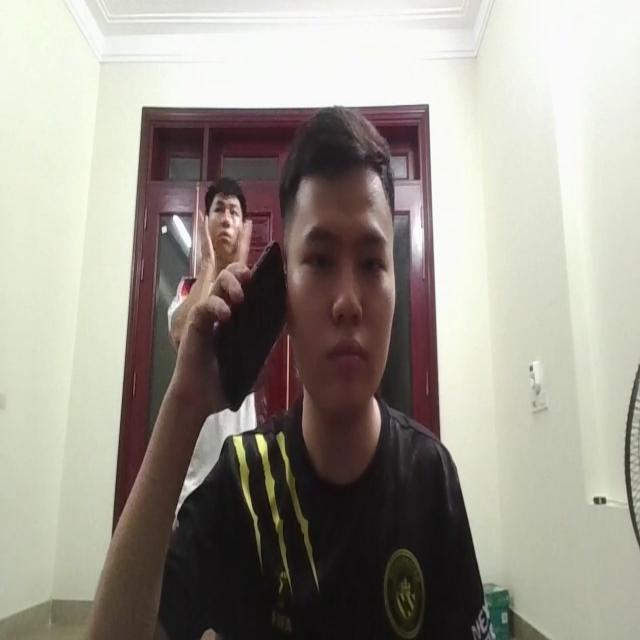extra_person: (170, 178, 246, 437)
phone: (221, 225, 288, 405)
student: (148, 94, 488, 640)
